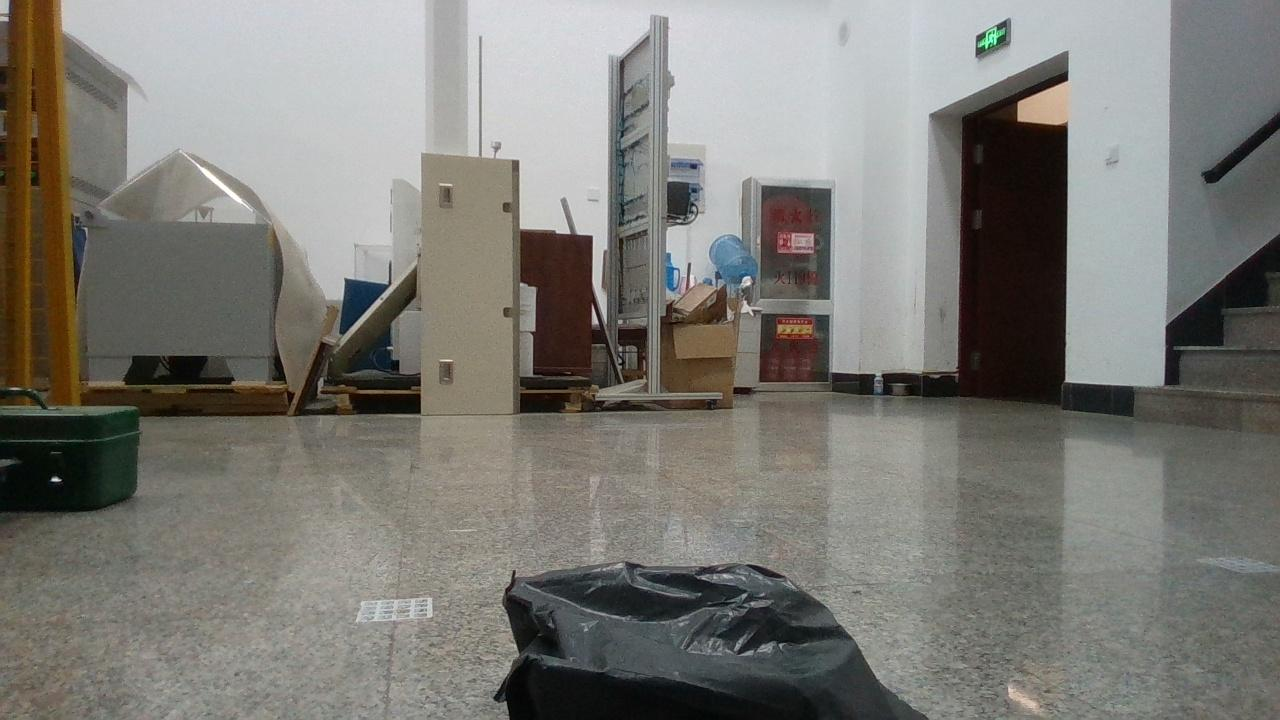package: (492, 562, 932, 720)
